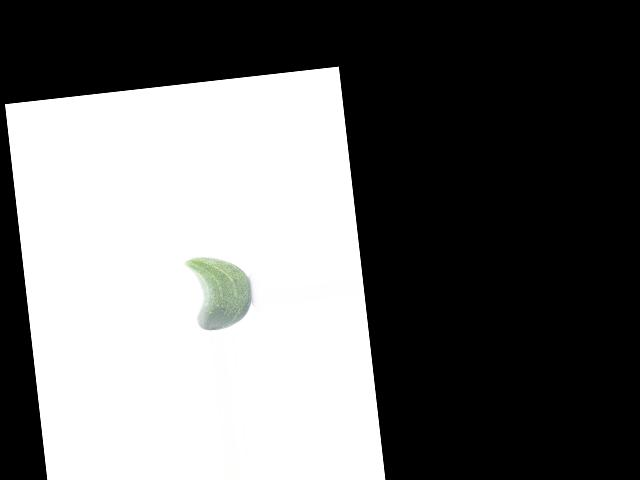cucumber: (184, 251, 254, 332)
